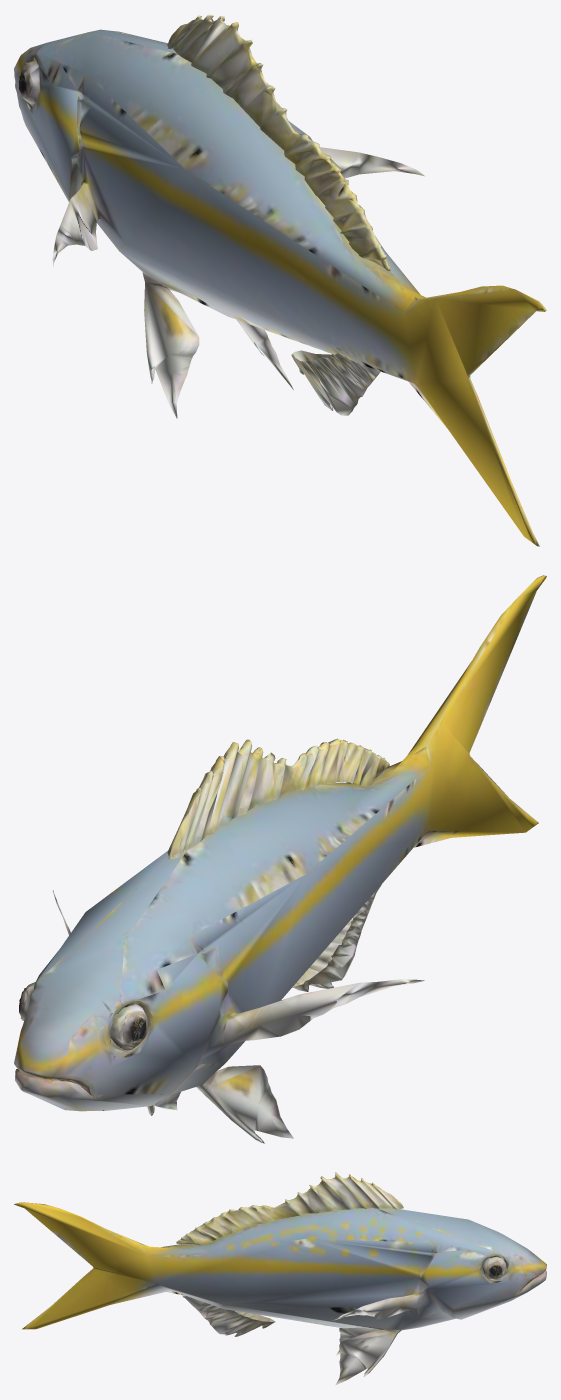
The model's file is geelstaart_snapper-ver.glb.
The picture shows the model from 3 angles, top to bottom: view 1: azimuth 30°, elevation 25°; view 2: azimuth 150°, elevation 25°; view 3: azimuth 270°, elevation 25°; orthographic projection. The views are drawn at different scales.
Parts seen in each view (by area): view 1: tripo_node_1cbbd02d-2976-49f1-952e-0ab3b046c475; view 2: tripo_node_1cbbd02d-2976-49f1-952e-0ab3b046c475; view 3: tripo_node_1cbbd02d-2976-49f1-952e-0ab3b046c475.
Part boxes in pixels (x1,y1,x2,y2): tripo_node_1cbbd02d-2976-49f1-952e-0ab3b046c475: [14, 14, 546, 546]; tripo_node_1cbbd02d-2976-49f1-952e-0ab3b046c475: [14, 575, 546, 1143]; tripo_node_1cbbd02d-2976-49f1-952e-0ab3b046c475: [14, 1172, 546, 1385].
Size of the model in its own units: 0.3057 by 0.3 by 0.7335.
1 material, 1 textured.
